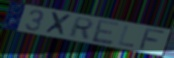3: (24, 9, 45, 32)
E: (90, 19, 121, 46)
F: (137, 28, 168, 52)
L: (117, 24, 135, 49)
R: (67, 17, 96, 40)
X: (43, 11, 73, 38)
